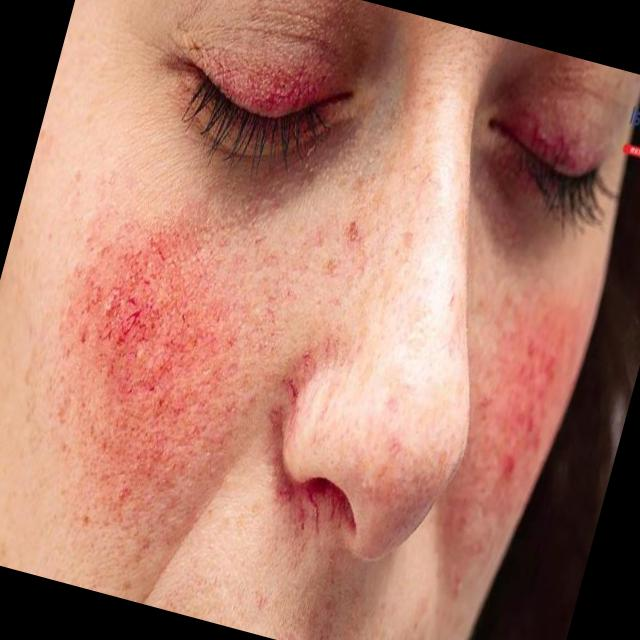redness: (17, 200, 292, 559), (468, 276, 587, 504)
